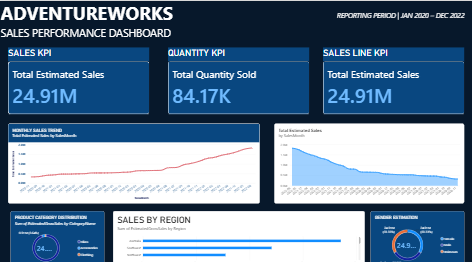

What the dashboard file says about the page in this screenshot:
{"tool":"powerbi","page":{"name":"Page 1","canvas":[1920,1080],"ordinal":0},"visuals":[{"type":"textbox","box":[7.5,0,905,185],"z":0},{"type":"textbox","box":[1355,40,532.5,50],"z":1000},{"type":"cardVisual","title":"SALES KPI","fields":{"Data":["monthly_product_sales.Total Estimated Sales"]},"box":[45,185,385,270],"z":2000},{"type":"cardVisual","title":"QUANTITY KPI","fields":{"Data":["monthly_product_sales.Total Quantity Sold"]},"box":[460,185,385,270],"z":3000},{"type":"cardVisual","title":"SALES LINE KPI","fields":{"Data":["monthly_product_sales.Total Sales Lines"]},"box":[880,185,385,270],"z":4000},{"type":"lineChart","title":"MONTHLY SALES TREND","fields":{"Category":["monthly_product_sales.SalesMonth"],"Y":["monthly_product_sales.Total Estimated Sales"]},"box":[40,490,650,320],"z":4001},{"type":"donutChart","title":"PRODUCT CATEGORY DISTRIBUTION","fields":{"Category":["monthly_product_sales.CategoryName"],"Y":["Sum(monthly_product_sales.EstimatedGrossSales)"]},"box":[50,840,375,217.5],"z":4002},{"type":"clusteredBarChart","title":"SALES BY REGION","fields":{"Category":["regional_sales.Region"],"Y":["Sum(regional_sales.EstimatedGrossSales)"]},"box":[460,840,935,217.5],"z":4003},{"type":"donutChart","title":"GENDER ESTIMATION","fields":{"Category":["customer_sales.Gender"],"Y":["Sum(monthly_product_sales.EstimatedGrossSales)"]},"box":[1295,185,570,270],"z":4004},{"type":"areaChart","fields":{"Category":["monthly_product_sales.SalesMonth"],"Y":["monthly_product_sales.Total Estimated Sales"]},"box":[732.5,490,662.5,320],"z":4005},{"type":"listSlicer","title":"FILTER BY REGION","fields":{"Values":["regional_sales.Region"]},"box":[1425,490,445,290],"z":4006},{"type":"listSlicer","fields":{"Values":["monthly_product_sales.CategoryName"]},"box":[1422.5,917.5,450,140],"z":4007},{"type":"textSlicer","fields":{"Values":["monthly_product_sales.SalesMonth"]},"box":[1422.5,802.5,450,92.5],"z":4008}]}

Visuals, with their boxes in screenshot pixels (x1, y1, x2, y2), scaled from the page's 1920x1080 canvas onto the 472x262 screenshot:
textbox: pyautogui.locateOnScreen(2, 0, 224, 45)
textbox: pyautogui.locateOnScreen(333, 10, 464, 22)
"SALES KPI" cardVisual: pyautogui.locateOnScreen(11, 45, 106, 110)
"QUANTITY KPI" cardVisual: pyautogui.locateOnScreen(113, 45, 208, 110)
"SALES LINE KPI" cardVisual: pyautogui.locateOnScreen(216, 45, 311, 110)
"MONTHLY SALES TREND" lineChart: pyautogui.locateOnScreen(10, 119, 170, 196)
"PRODUCT CATEGORY DISTRIBUTION" donutChart: pyautogui.locateOnScreen(12, 204, 104, 257)
"SALES BY REGION" clusteredBarChart: pyautogui.locateOnScreen(113, 204, 343, 257)
"GENDER ESTIMATION" donutChart: pyautogui.locateOnScreen(318, 45, 458, 110)
areaChart - monthly_product_sales.SalesMonth x monthly_product_sales.Total Estimated Sales: pyautogui.locateOnScreen(180, 119, 343, 196)
"FILTER BY REGION" listSlicer: pyautogui.locateOnScreen(350, 119, 460, 189)
listSlicer - monthly_product_sales.CategoryName: pyautogui.locateOnScreen(350, 223, 460, 257)
textSlicer - monthly_product_sales.SalesMonth: pyautogui.locateOnScreen(350, 195, 460, 217)
